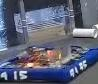blue_number: (68, 59, 89, 79), (0, 69, 30, 81)
